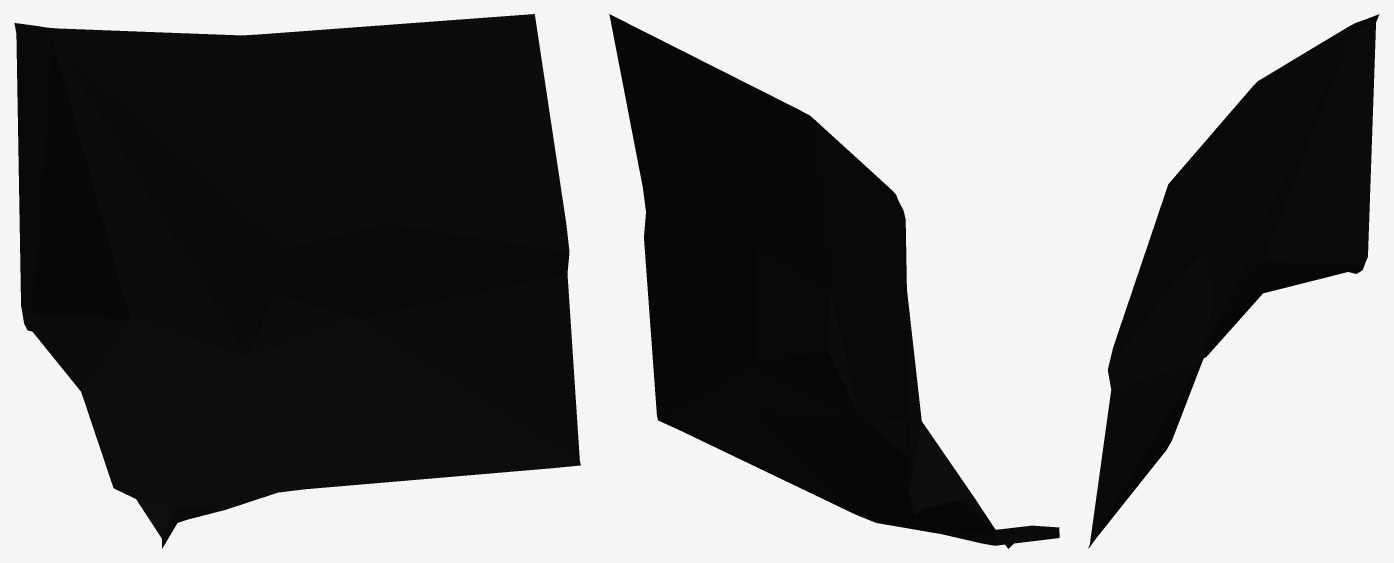
3 renders of one model, left to right at view 1: azimuth 30°, elevation 25°; view 2: azimuth 150°, elevation 25°; view 3: azimuth 270°, elevation 25°, orthographic. The views are drawn at different scales.
Bounding box in the file's own units: 2.95 × 2.95 × 2.13.
Materials: 3 (3 with a texture image).
